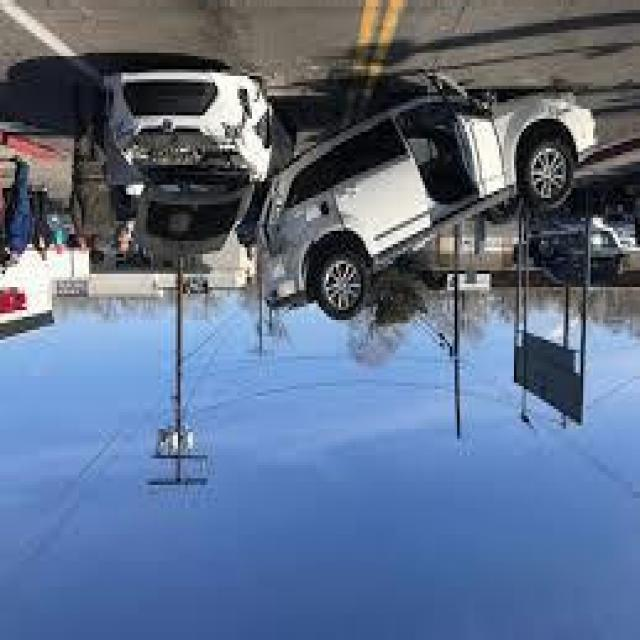severe: (102, 64, 606, 318)
